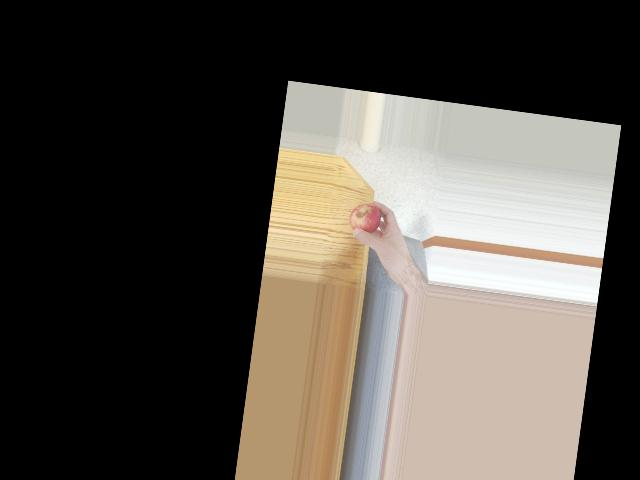apple: (347, 201, 383, 239)
